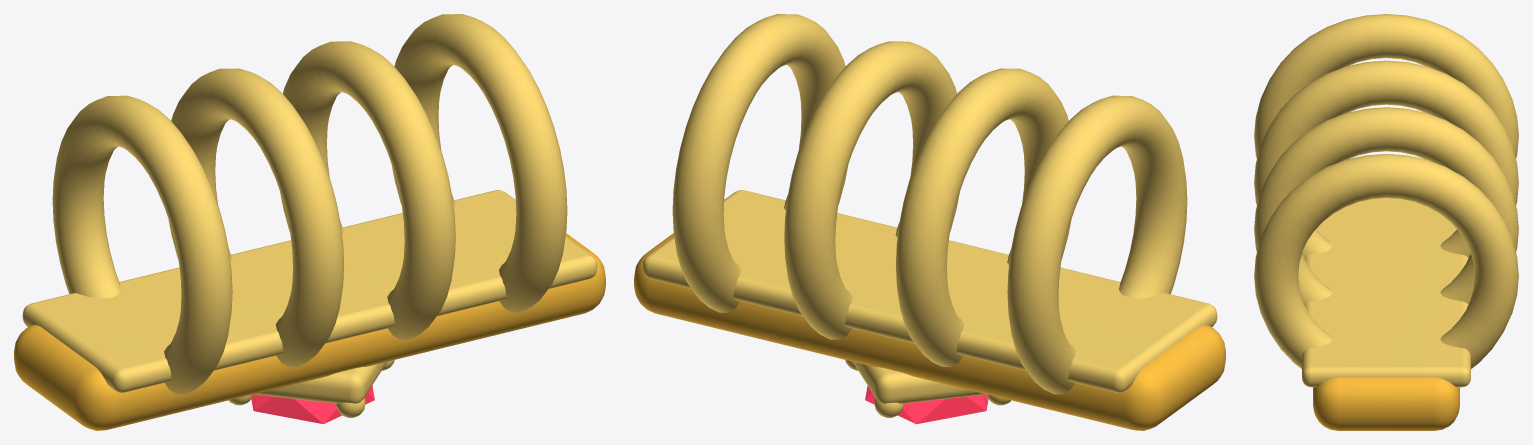
File: Knuckles_Gold.glb
The picture shows the model from 3 angles, left to right: view 1: azimuth 30°, elevation 25°; view 2: azimuth 150°, elevation 25°; view 3: azimuth 270°, elevation 25°; orthographic projection. The views are drawn at different scales.
Parts seen in each view (by area): view 1: Gold_GoldBright, Gold_Gold, Gold_Ruby; view 2: Gold_GoldBright, Gold_Gold, Gold_Ruby; view 3: Gold_GoldBright, Gold_Gold.
Boxes of the visible parts, left/top/right/bottom form: Gold_GoldBright: left=22, top=14, right=597, bottom=417; Gold_Gold: left=14, top=233, right=605, bottom=430; Gold_Ruby: left=251, top=385, right=374, bottom=424; Gold_GoldBright: left=642, top=14, right=1217, bottom=417; Gold_Gold: left=634, top=233, right=1225, bottom=430; Gold_Ruby: left=865, top=385, right=988, bottom=424; Gold_GoldBright: left=1254, top=14, right=1518, bottom=387; Gold_Gold: left=1313, top=377, right=1459, bottom=430.
Size of the model in its own units: 1.42 by 0.9035 by 0.72.
